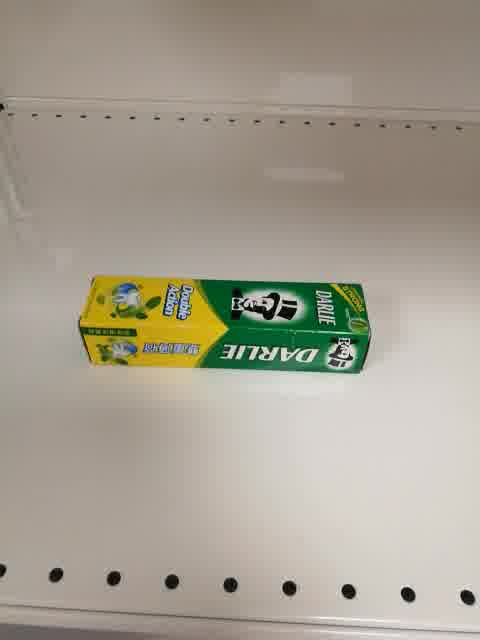toothpaste: (78, 273, 373, 374)
